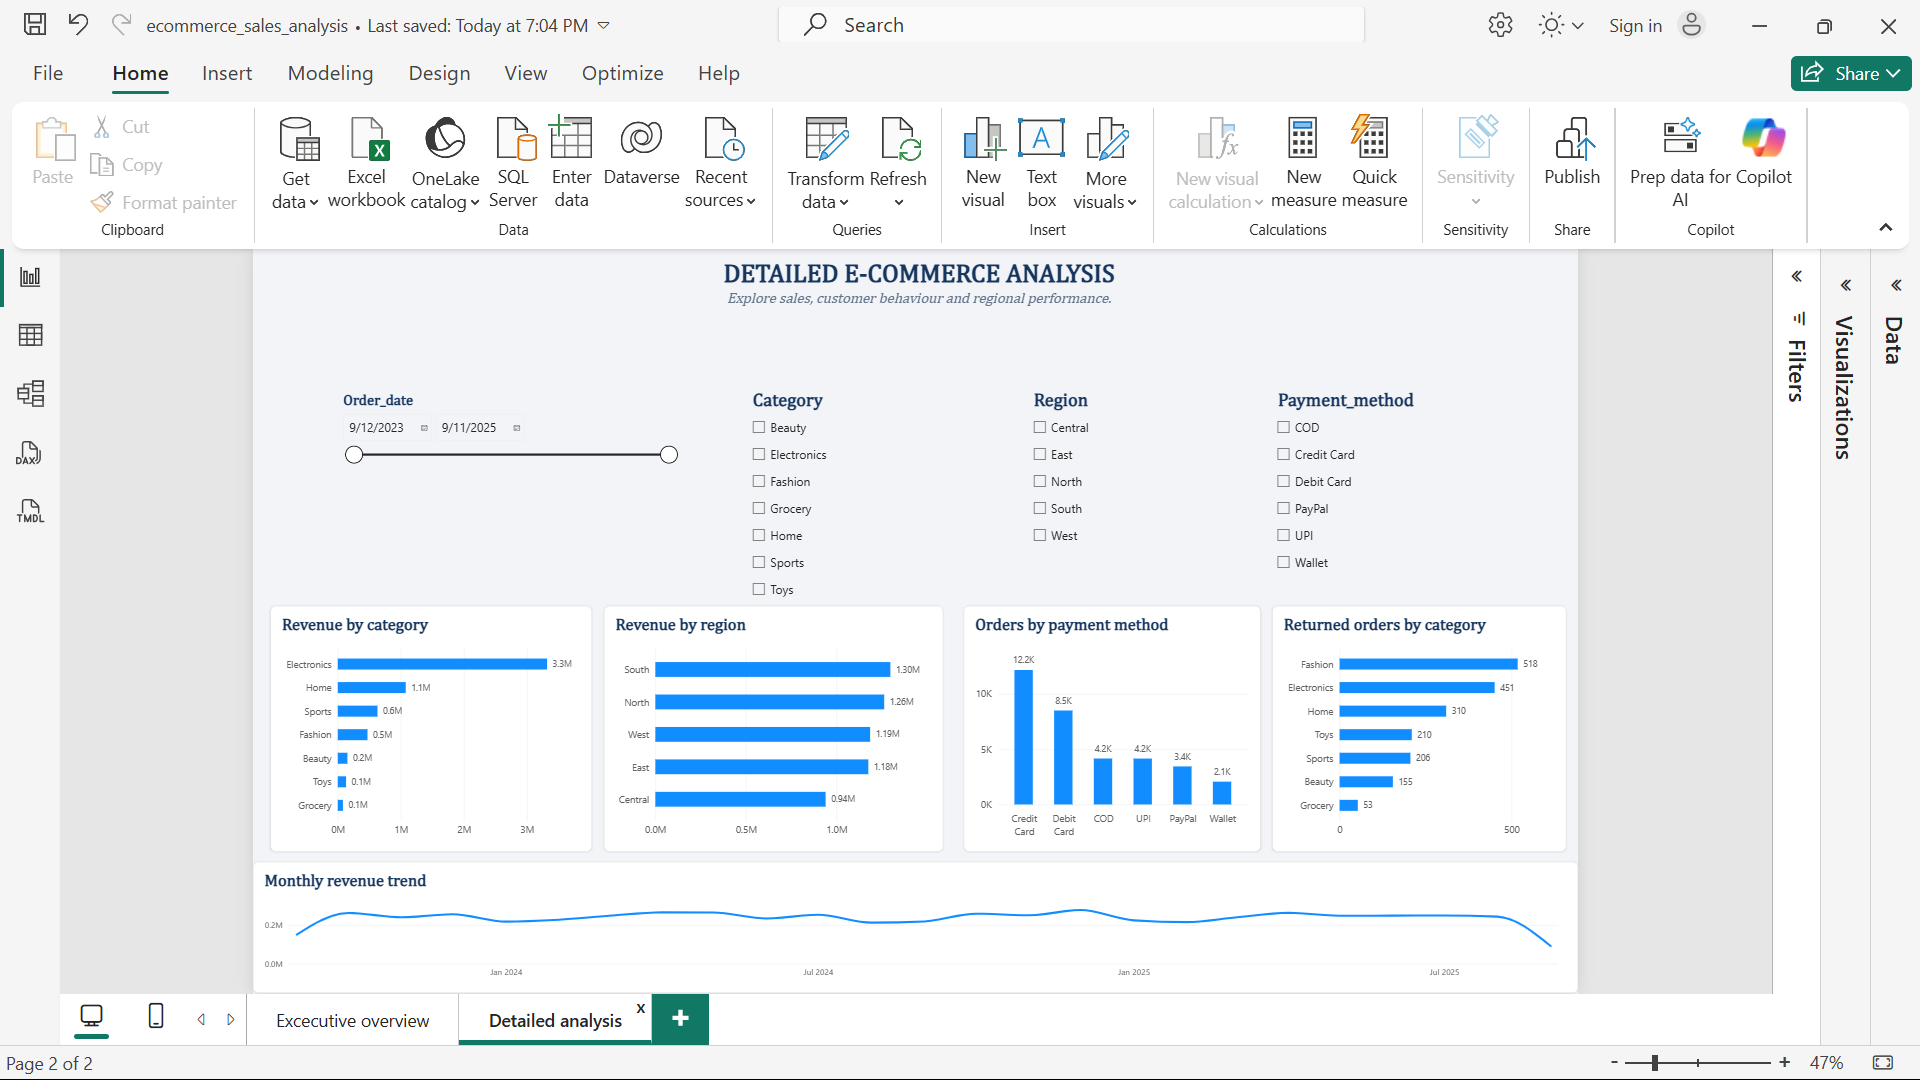

This screenshot's page, from the dashboard's own definition file:
{"tool":"powerbi","page":{"name":"Detailed analysis","canvas":[1920,1080],"ordinal":1},"visuals":[{"type":"textbox","box":[10.9,17.5,1909.6,85.2],"z":0},{"type":"slicer","title":"Order_date","fields":{"Values":["ecommerce_sales_34500.order_date"]},"box":[122.4,207.6,496,155.1],"z":1},{"type":"slicer","fields":{"Values":["ecommerce_sales_34500.category"]},"box":[716.6,205.4,496,312.4],"z":2},{"type":"slicer","fields":{"Values":["ecommerce_sales_34500.region"]},"box":[1123,205.4,496,255.6],"z":3},{"type":"slicer","fields":{"Values":["ecommerce_sales_34500.payment_method"]},"box":[1477,205.4,338.7,266.6],"z":4},{"type":"clusteredBarChart","title":"Revenue by category","fields":{"Category":["ecommerce_sales_34500.category"],"Y":["ecommerce_sales_34500.Total Revenue"]},"box":[26.2,517.8,465.4,356.1],"z":5},{"type":"clusteredBarChart","title":"Revenue by region","fields":{"Category":["ecommerce_sales_34500.region"],"Y":["ecommerce_sales_34500.Total Revenue"]},"box":[509.1,517.8,491.6,356.1],"z":6},{"type":"clusteredColumnChart","title":"Orders by payment method","fields":{"Category":["ecommerce_sales_34500.payment_method"],"Y":["ecommerce_sales_34500.Total Orders"]},"box":[1031.3,517.8,430.4,356.1],"z":7},{"type":"clusteredBarChart","title":"Returned orders by category","fields":{"Category":["ecommerce_sales_34500.category"],"Y":["ecommerce_sales_34500.Returned Orders"]},"box":[1477,517.8,426.1,356.1],"z":8},{"type":"lineChart","title":"Monthly revenue trend","fields":{"Category":["ecommerce_sales_34500.order_date.Variation.Date Hierarchy.Year","ecommerce_sales_34500.order_date.Variation.Date Hierarchy.Month"],"Y":["ecommerce_sales_34500.Total Revenue"]},"box":[0,889.2,1920.5,190.1],"z":9}]}

Visuals, with their boxes on the page's 1920x1080 design canvas (x1, y1, x2, y2). These are canvas units, not pixel positions in the 1920x1080 screenshot, which may show the page scaled, cropped or inside an application window:
textbox: l=11, t=18, r=1920, b=103
"Order_date" slicer: l=122, t=208, r=618, b=363
slicer - ecommerce_sales_34500.category: l=717, t=205, r=1213, b=518
slicer - ecommerce_sales_34500.region: l=1123, t=205, r=1619, b=461
slicer - ecommerce_sales_34500.payment_method: l=1477, t=205, r=1816, b=472
"Revenue by category" clusteredBarChart: l=26, t=518, r=492, b=874
"Revenue by region" clusteredBarChart: l=509, t=518, r=1001, b=874
"Orders by payment method" clusteredColumnChart: l=1031, t=518, r=1462, b=874
"Returned orders by category" clusteredBarChart: l=1477, t=518, r=1903, b=874
"Monthly revenue trend" lineChart: l=0, t=889, r=1920, b=1079
